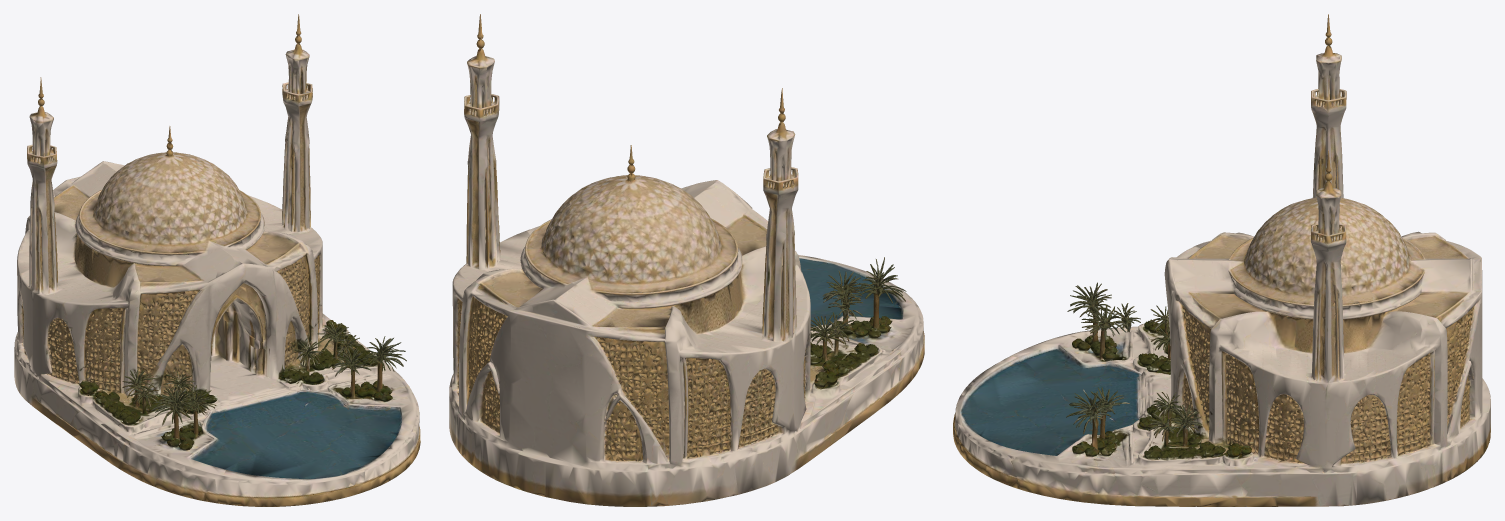
File: pavilion_small.glb
3 views of the same model, side by side, from view 1: azimuth 30°, elevation 25°; view 2: azimuth 150°, elevation 25°; view 3: azimuth 270°, elevation 25° (orthographic). The views are drawn at different scales.
Bounding box in the file's own units: 17.18 × 18.76 × 26.
Materials: 1 (1 with a texture image).
